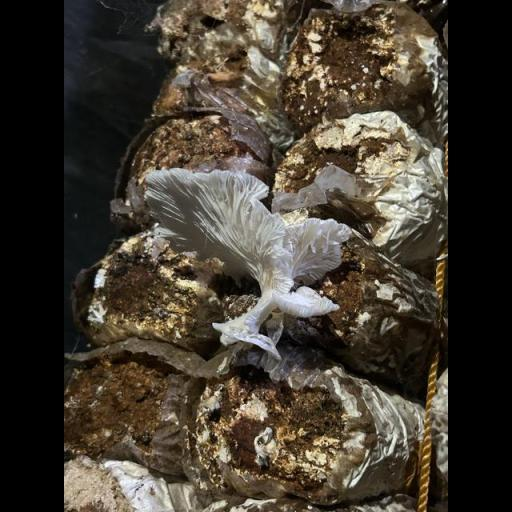White Oyster Mushroom: (138, 161, 339, 355)
